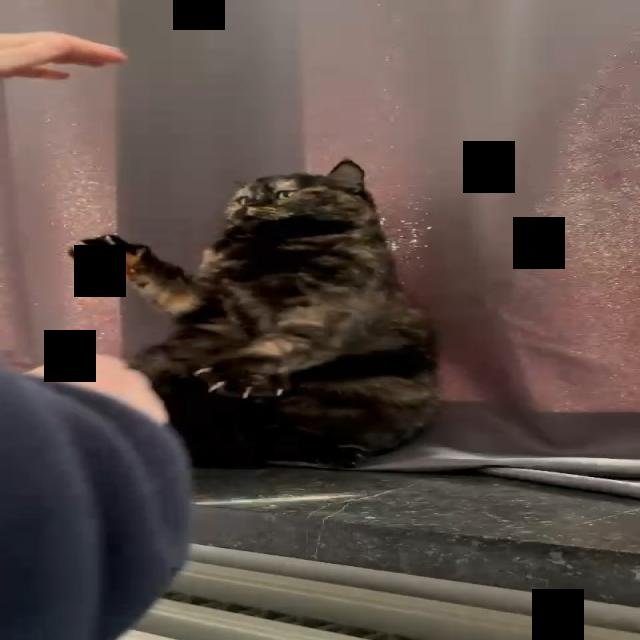authorized: (65, 158, 443, 469)
